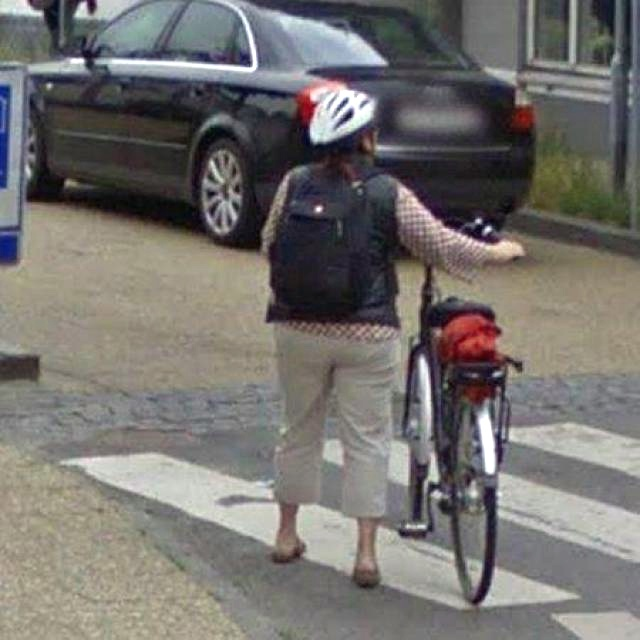bicycle: (365, 267, 579, 616)
car: (0, 0, 562, 246)
